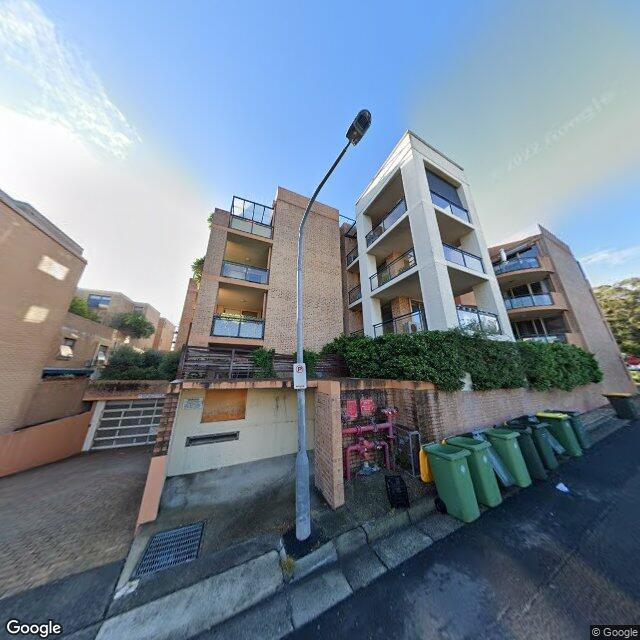steel-pole: (296, 230, 312, 540)
streetlight: (299, 108, 373, 230)
